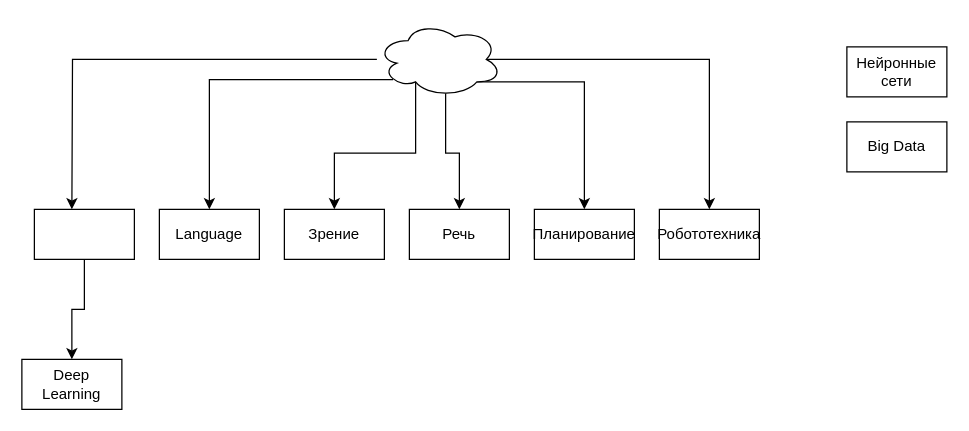
Image size: 969x431. Some labels were removed from this diagram. The shapes that lost their labels are listed below. From the top down, each one's centre as x and y in pixels, then its label:
At pixel 439 59: "AI".
At pixel 83 233: "Mashine Learning".
